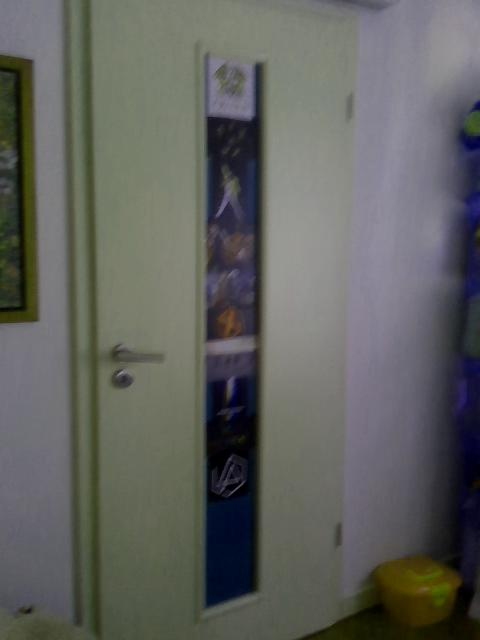closed_door: (66, 2, 353, 639)
